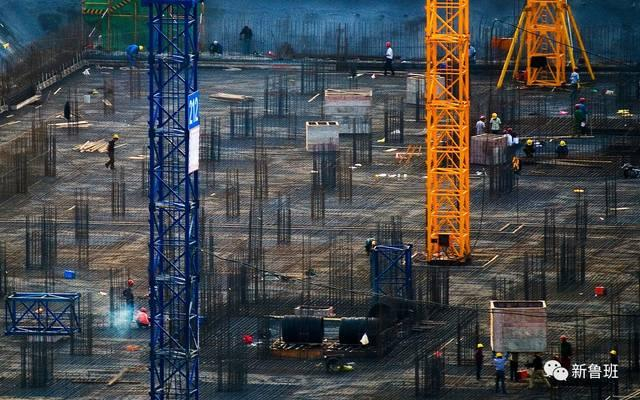helmet: (496, 353, 504, 361), (128, 279, 135, 288), (560, 336, 569, 343), (386, 41, 393, 50), (527, 139, 534, 146), (561, 141, 568, 148), (478, 343, 484, 350), (492, 114, 498, 121), (611, 351, 618, 357), (113, 135, 119, 141), (580, 97, 586, 103), (213, 40, 219, 46), (141, 309, 148, 314), (480, 116, 486, 121), (140, 46, 145, 52)
